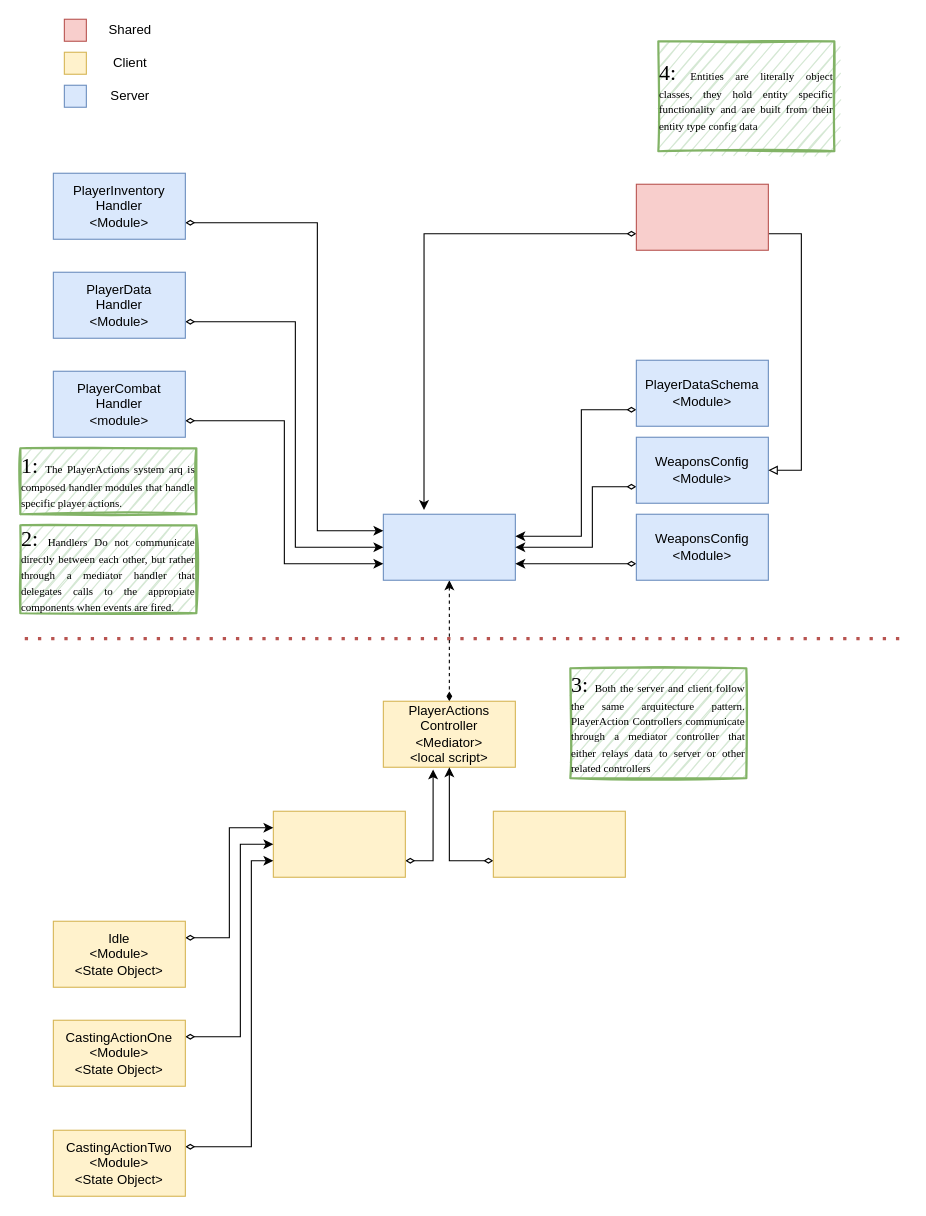
This 926x1216 diagram has some shape labels left out. The shapes that lost their labels are listed below. From the top down, each one's centre as x and y in pixels, then its label:
At pixel 701 216: "ClassicSword <WeaponEntity> <Module>".
At pixel 448 546: "PlayerActions Handler <Mediator> <script>".
At pixel 338 843: "CombatController <Module> <State Context>".
At pixel 558 843: "PlayerInventory Controller <Module>".
